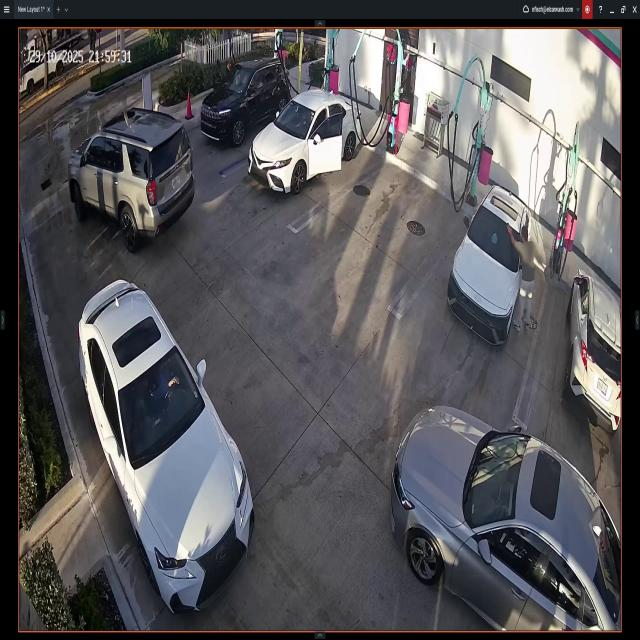Car: (79, 278, 256, 618), (393, 403, 620, 630), (68, 107, 196, 251), (449, 185, 531, 348), (249, 91, 362, 190), (569, 270, 622, 429), (199, 56, 290, 142)
